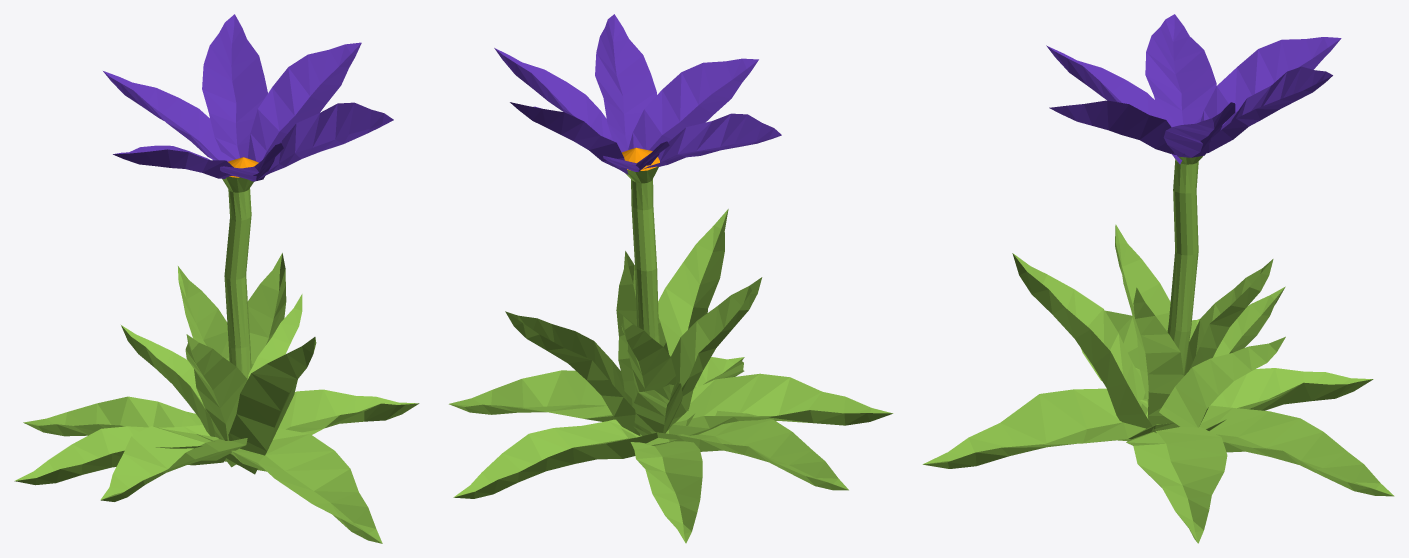
File: blue-flower.glb
3 renders of one model, left to right at view 1: azimuth 30°, elevation 25°; view 2: azimuth 150°, elevation 25°; view 3: azimuth 270°, elevation 25°, orthographic. The views are drawn at different scales.
Parts seen in each view (by area): view 1: group783281343, group2059789359, group1552697363, group1758196251, group266082552, group539717079, group595482761, group158731365, group1928658340, group1439209696, group1238384977, group1366698634 (+6 smaller); view 2: group266082552, group303338039, group401147796, group158731365, group1928658340, group1439209696, group1758196251, group1990659664, group595482761, group539717079, group1238384977, group1450367602 (+7 smaller); view 3: group783281343, group303338039, group1758196251, group1439209696, group1450367602, group539717079, group1366698634, group595482761, group1990659664, group1945249999, group2059789359, group1318692651 (+6 smaller).
Boxes of the visible parts, <box> form: group783281343: <box>197,428,382,543</box>; group2059789359: <box>202,14,267,159</box>; group1552697363: <box>248,42,361,162</box>; group1758196251: <box>224,337,316,474</box>; group266082552: <box>100,426,247,501</box>; group539717079: <box>222,157,258,379</box>; group595482761: <box>23,396,226,461</box>; group158731365: <box>14,425,225,485</box>; group1928658340: <box>258,102,393,179</box>; group1439209696: <box>278,389,419,434</box>; group1238384977: <box>185,334,247,467</box>; group1366698634: <box>103,71,233,161</box>; group266082552: <box>640,373,893,445</box>; group303338039: <box>453,419,661,498</box>; group401147796: <box>628,58,758,150</box>; group158731365: <box>650,410,848,490</box>; group1928658340: <box>595,14,656,152</box>; group1439209696: <box>449,370,615,421</box>; group1758196251: <box>658,209,728,410</box>; group1990659664: <box>505,311,643,435</box>; group595482761: <box>621,428,702,543</box>; group539717079: <box>622,147,660,343</box>; group1238384977: <box>667,277,762,430</box>; group1450367602: <box>642,113,781,169</box>; group783281343: <box>922,388,1173,468</box>; group303338039: <box>1199,405,1394,496</box>; group1758196251: <box>1012,253,1156,432</box>; group1439209696: <box>1126,426,1227,543</box>; group1450367602: <box>1145,14,1216,127</box>; group539717079: <box>1167,156,1202,376</box>; group1366698634: <box>1200,37,1341,130</box>; group595482761: <box>1206,368,1373,430</box>; group1990659664: <box>1159,336,1285,427</box>; group1945249999: <box>1133,287,1183,430</box>; group2059789359: <box>1200,66,1332,154</box>; group1318692651: <box>1184,259,1273,375</box>.
Bounding box in the file's own units: 1.7 × 1.56 × 1.6.
